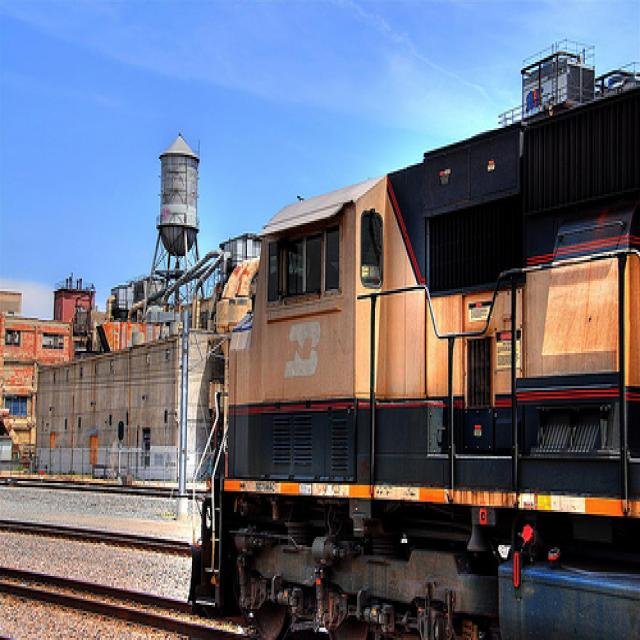locomotive: (188, 70, 639, 640)
